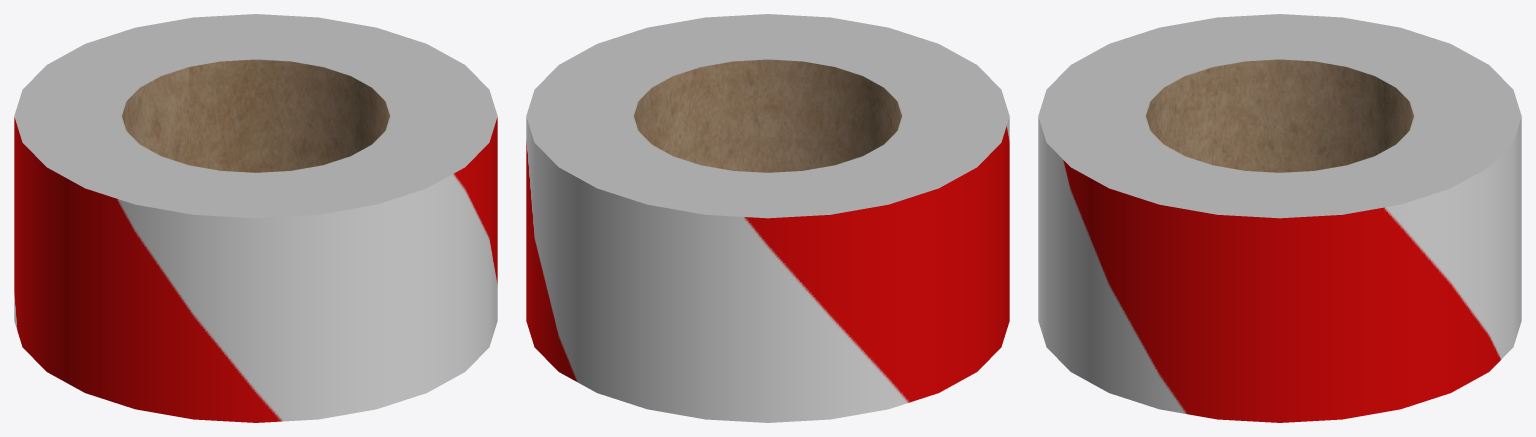
Rendered from Tape_Round.fbx.
The picture shows the model from 3 angles, left to right: view 1: azimuth 30°, elevation 25°; view 2: azimuth 150°, elevation 25°; view 3: azimuth 270°, elevation 25°; orthographic projection.
Parts seen in each view (by area): view 1: Tape_round; view 2: Tape_round; view 3: Tape_round.
Part boxes in pixels (x1,y1,x2,y2): Tape_round: [14, 14, 497, 422]; Tape_round: [526, 14, 1009, 422]; Tape_round: [1038, 14, 1521, 422].
Size of the model in its own units: 0.1498 by 0.07 by 0.1498.
